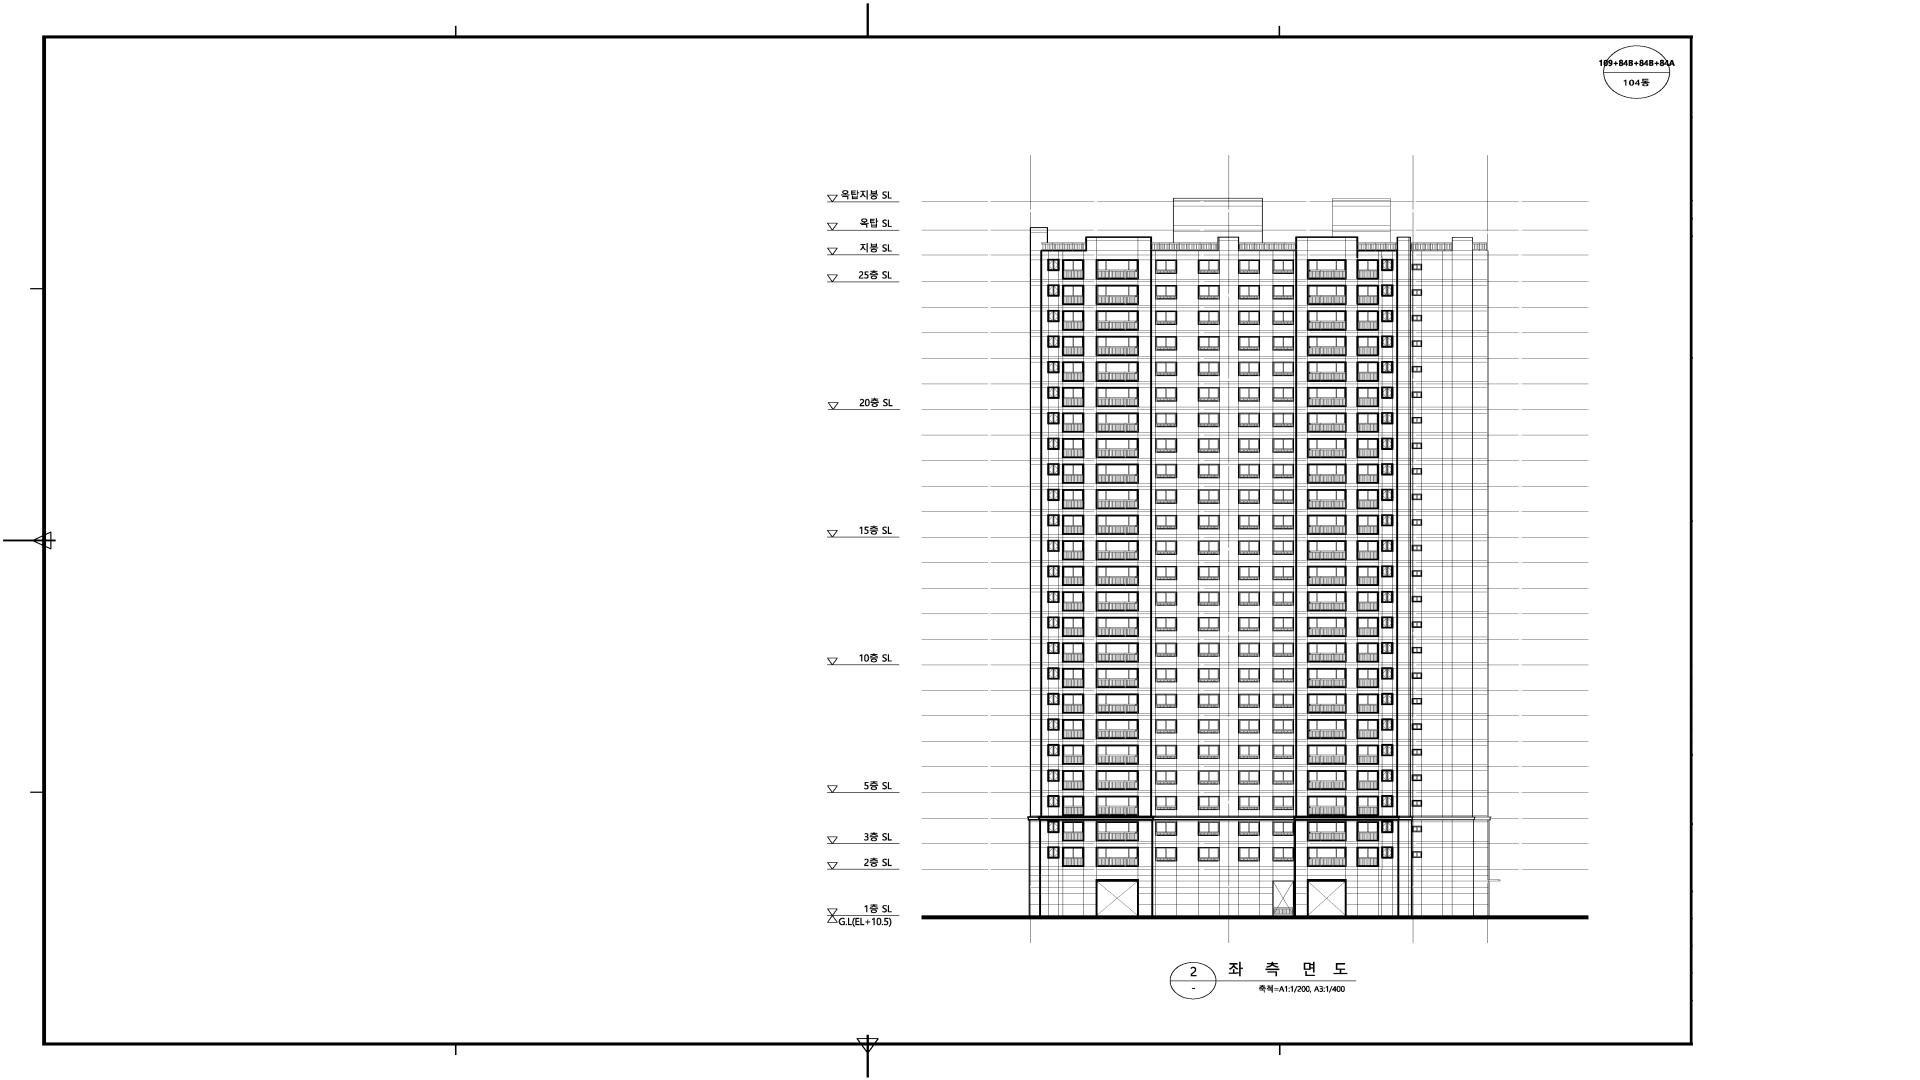door: (1096, 880, 1139, 915), (1307, 880, 1346, 915)
wall: (1029, 198, 1490, 919)
window: (1096, 285, 1139, 306), (1096, 310, 1139, 331), (1096, 361, 1139, 382), (1096, 514, 1139, 535), (1095, 719, 1138, 740), (1096, 744, 1139, 765), (1096, 795, 1139, 816), (1096, 386, 1138, 407), (1096, 591, 1138, 612), (1307, 310, 1348, 331), (1307, 438, 1348, 459), (1307, 463, 1348, 484), (1307, 591, 1348, 612), (1096, 260, 1139, 280), (1096, 336, 1139, 356), (1096, 413, 1139, 433), (1096, 438, 1139, 458), (1096, 464, 1139, 484), (1096, 489, 1139, 509), (1096, 566, 1139, 585), (1096, 642, 1139, 662), (1096, 694, 1139, 713), (1096, 770, 1139, 790), (1096, 847, 1139, 866), (1096, 541, 1139, 560), (1096, 617, 1138, 637), (1096, 669, 1138, 688), (1096, 822, 1138, 841), (1307, 667, 1346, 688), (1307, 795, 1346, 816), (1307, 386, 1348, 406), (1307, 617, 1348, 637), (1307, 642, 1348, 662), (1307, 260, 1346, 280), (1307, 285, 1346, 305), (1307, 336, 1346, 356), (1307, 361, 1346, 381), (1307, 413, 1346, 433), (1307, 489, 1346, 509), (1307, 516, 1346, 535), (1307, 566, 1346, 585), (1307, 694, 1346, 713), (1307, 719, 1346, 738), (1307, 745, 1346, 765), (1307, 770, 1346, 790), (1307, 822, 1346, 841), (1307, 847, 1346, 866), (1307, 541, 1346, 560), (1273, 881, 1294, 915), (1062, 310, 1085, 331), (1356, 463, 1379, 484), (1356, 514, 1379, 535), (1356, 591, 1379, 612), (1062, 258, 1084, 280), (1062, 361, 1084, 382), (1062, 667, 1084, 688), (1062, 744, 1084, 765), (1062, 795, 1084, 816), (1062, 847, 1084, 868), (1062, 694, 1085, 713), (1356, 260, 1379, 280), (1356, 311, 1379, 331), (1356, 336, 1379, 356), (1356, 566, 1379, 585), (1356, 617, 1379, 637), (1356, 642, 1379, 662), (1356, 669, 1379, 688), (1356, 694, 1379, 713), (1356, 745, 1379, 765), (1356, 770, 1379, 790), (1356, 795, 1379, 815), (1356, 822, 1379, 841), (1356, 847, 1379, 866), (1062, 285, 1084, 305), (1062, 336, 1084, 356), (1062, 388, 1084, 407), (1062, 413, 1084, 433), (1062, 438, 1084, 458), (1062, 464, 1084, 484), (1062, 489, 1084, 509), (1062, 516, 1084, 535), (1062, 566, 1084, 585), (1062, 592, 1084, 612), (1062, 617, 1084, 637), (1062, 642, 1084, 662), (1062, 719, 1084, 738), (1062, 770, 1084, 790), (1062, 822, 1084, 841), (1357, 285, 1379, 305), (1357, 361, 1379, 381), (1357, 386, 1379, 406), (1357, 413, 1379, 433), (1357, 438, 1379, 458), (1357, 489, 1379, 509), (1357, 719, 1379, 738), (1357, 541, 1379, 560), (1062, 541, 1084, 560), (1155, 260, 1178, 274), (1197, 260, 1220, 274), (1155, 285, 1178, 299), (1155, 310, 1178, 324), (1155, 336, 1178, 351), (1155, 361, 1178, 376), (1155, 388, 1178, 402), (1155, 413, 1178, 427), (1155, 439, 1178, 454), (1197, 285, 1220, 299), (1197, 310, 1220, 324), (1197, 336, 1220, 351), (1197, 361, 1220, 376), (1197, 388, 1220, 402), (1197, 413, 1220, 427), (1197, 438, 1220, 452), (1197, 464, 1220, 479), (1197, 489, 1220, 504), (1197, 516, 1220, 530), (1155, 516, 1178, 530), (1155, 489, 1178, 504), (1155, 464, 1178, 479), (1197, 566, 1220, 580), (1197, 591, 1220, 605), (1197, 617, 1220, 632), (1197, 642, 1220, 657), (1155, 566, 1178, 580), (1155, 592, 1178, 607), (1155, 617, 1178, 632), (1155, 642, 1178, 657), (1197, 669, 1220, 683), (1197, 694, 1220, 708), (1197, 719, 1220, 733), (1197, 745, 1220, 760), (1197, 770, 1220, 785), (1197, 796, 1220, 811), (1197, 822, 1220, 836), (1197, 847, 1220, 861), (1155, 847, 1178, 861), (1155, 822, 1178, 836), (1155, 795, 1178, 810), (1155, 770, 1178, 785), (1155, 745, 1178, 760), (1155, 719, 1178, 733), (1155, 694, 1178, 708), (1155, 669, 1178, 683), (1273, 847, 1295, 861), (1238, 847, 1261, 861), (1238, 822, 1261, 836), (1273, 822, 1295, 836), (1238, 770, 1261, 785), (1237, 745, 1259, 760), (1237, 719, 1259, 733), (1238, 694, 1261, 708), (1238, 667, 1261, 682), (1273, 770, 1295, 785), (1273, 745, 1295, 760), (1273, 719, 1295, 733), (1238, 566, 1261, 580), (1238, 591, 1261, 605), (1238, 617, 1261, 632), (1238, 642, 1261, 657), (1238, 514, 1261, 529), (1237, 489, 1259, 504), (1238, 464, 1261, 479), (1238, 438, 1261, 452), (1238, 413, 1261, 427), (1238, 361, 1261, 376), (1238, 336, 1261, 351), (1238, 310, 1261, 324), (1238, 285, 1261, 299), (1238, 260, 1261, 274), (1273, 336, 1295, 351), (1273, 260, 1295, 274), (1155, 541, 1178, 555), (1197, 541, 1220, 555), (1238, 541, 1261, 555), (1273, 566, 1294, 580), (1273, 591, 1294, 605), (1273, 617, 1294, 632), (1273, 642, 1294, 657), (1273, 669, 1294, 683), (1273, 694, 1294, 708), (1273, 516, 1294, 530), (1273, 489, 1294, 504), (1273, 464, 1294, 479), (1273, 438, 1294, 452), (1273, 413, 1294, 427), (1273, 388, 1294, 402), (1273, 361, 1294, 376), (1273, 310, 1294, 324), (1273, 285, 1294, 299), (1273, 541, 1294, 555), (1237, 796, 1259, 810), (1271, 796, 1294, 810), (1238, 388, 1261, 401), (1047, 258, 1060, 272), (1047, 616, 1060, 629), (1047, 692, 1060, 705), (1047, 820, 1060, 833), (1381, 692, 1394, 705), (1381, 744, 1394, 757), (1047, 539, 1060, 553), (1381, 539, 1394, 553), (1047, 514, 1060, 526), (1047, 310, 1060, 322), (1047, 335, 1059, 348), (1047, 361, 1060, 373), (1047, 386, 1060, 398), (1047, 413, 1060, 425), (1047, 438, 1060, 450), (1047, 463, 1059, 476), (1047, 566, 1060, 578), (1047, 642, 1060, 654), (1047, 667, 1060, 679), (1047, 719, 1060, 731), (1047, 744, 1060, 756), (1381, 514, 1394, 526), (1381, 285, 1394, 297), (1381, 386, 1394, 398), (1382, 411, 1394, 425), (1381, 566, 1394, 578), (1381, 617, 1394, 629), (1381, 642, 1394, 654), (1381, 667, 1394, 679), (1381, 770, 1394, 782), (1381, 795, 1394, 807), (1381, 820, 1394, 832), (1381, 847, 1394, 858), (1047, 489, 1059, 501), (1047, 285, 1059, 297), (1047, 591, 1059, 603), (1047, 770, 1059, 782), (1047, 795, 1059, 807), (1047, 847, 1059, 858), (1381, 258, 1393, 270), (1382, 310, 1394, 322), (1381, 336, 1393, 348), (1382, 361, 1394, 373), (1382, 438, 1394, 450), (1382, 463, 1394, 475), (1381, 489, 1393, 501), (1382, 591, 1394, 603), (1382, 719, 1394, 731), (1411, 264, 1422, 270), (1411, 289, 1422, 295), (1412, 315, 1423, 322), (1411, 340, 1422, 347), (1411, 367, 1422, 373), (1412, 392, 1423, 398), (1412, 417, 1423, 423), (1411, 443, 1422, 450), (1411, 468, 1422, 475), (1412, 493, 1423, 500), (1411, 520, 1422, 526), (1412, 545, 1423, 551), (1412, 570, 1423, 576), (1411, 596, 1422, 603), (1411, 621, 1422, 628), (1412, 647, 1423, 654), (1411, 673, 1422, 679), (1412, 698, 1423, 704), (1412, 724, 1423, 731), (1412, 749, 1423, 756), (1412, 774, 1423, 781), (1411, 800, 1422, 807), (1412, 825, 1423, 832), (1412, 852, 1423, 858)
